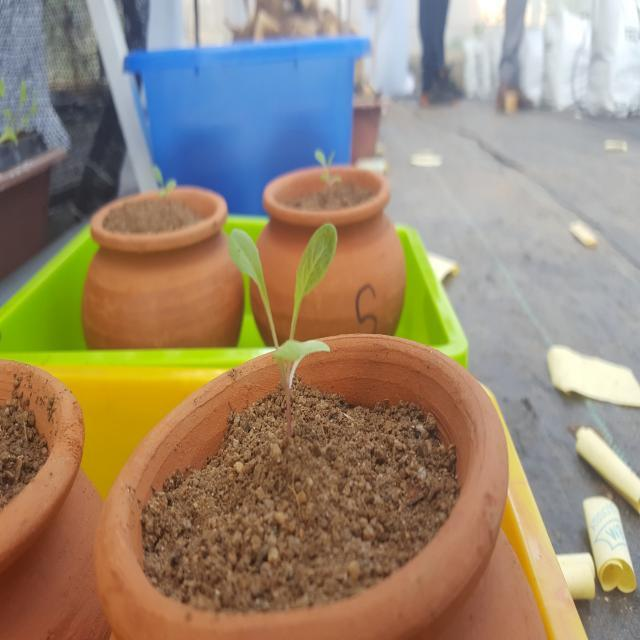Lettuce-Not-Ready-to-Harvest: (223, 224, 343, 404)
